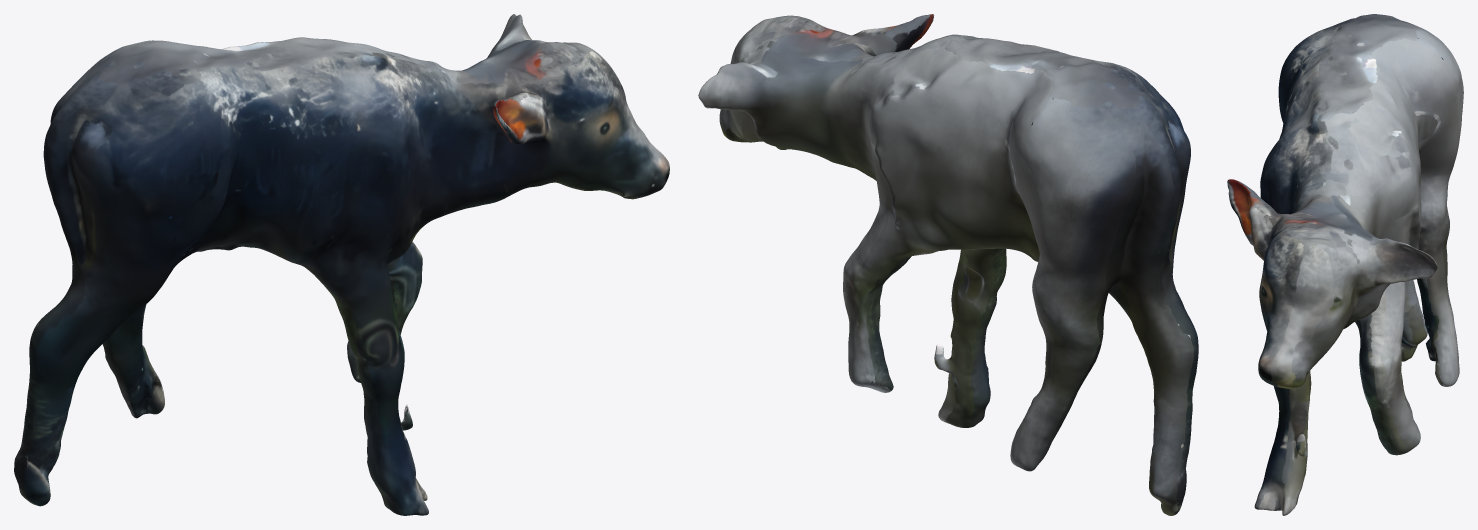
Rendered from bebe.glb.
The picture shows the model from 3 angles, left to right: view 1: azimuth 30°, elevation 25°; view 2: azimuth 150°, elevation 25°; view 3: azimuth 270°, elevation 25°; orthographic projection. The views are drawn at different scales.
Parts seen in each view (by area): view 1: mesh; view 2: mesh; view 3: mesh.
Boxes of the visible parts, left/top/right/bottom form: mesh: left=14, top=14, right=669, bottom=515; mesh: left=698, top=14, right=1198, bottom=515; mesh: left=1227, top=14, right=1463, bottom=515.
Size of the model in its own units: 1.66 by 1.28 by 0.6828.
Materials: 1 (1 with a texture image).
